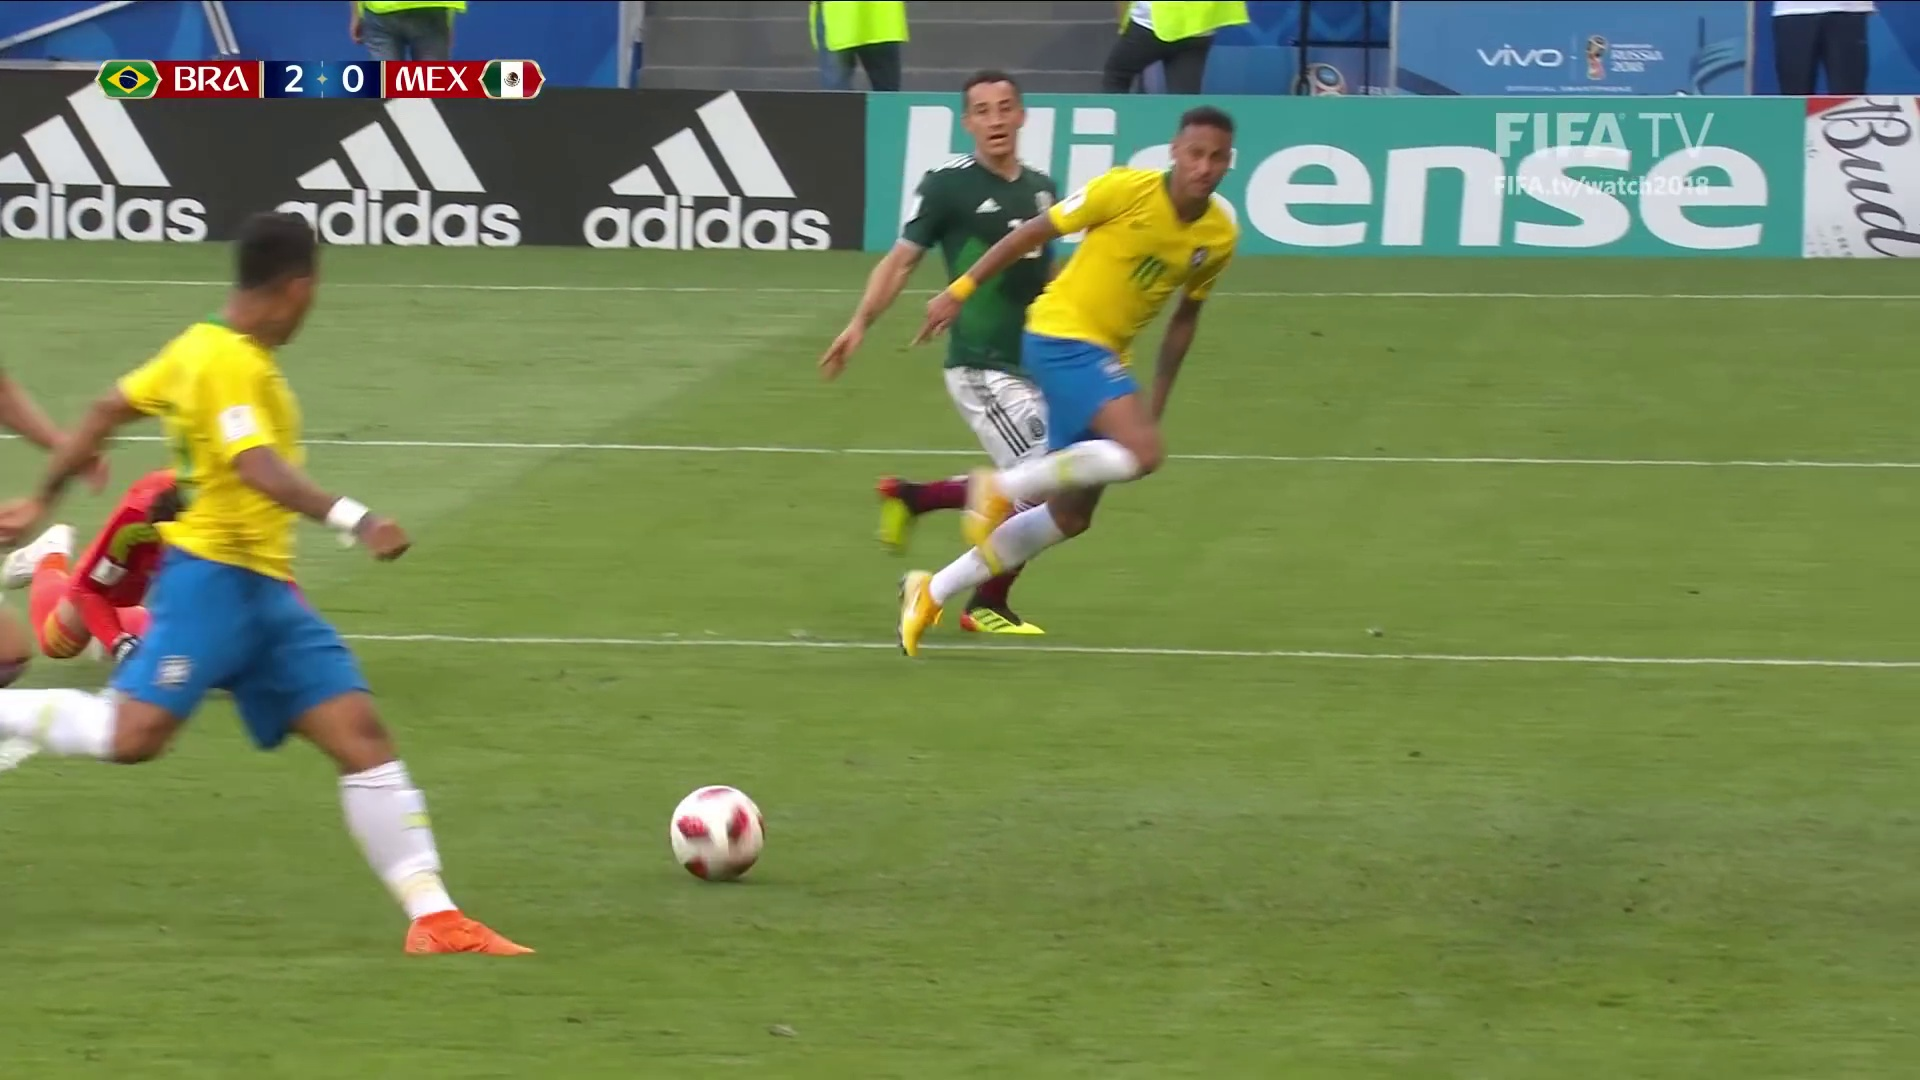ball: (669, 790, 761, 878)
person: (1, 220, 536, 961), (938, 90, 1234, 655), (832, 70, 1069, 480)
